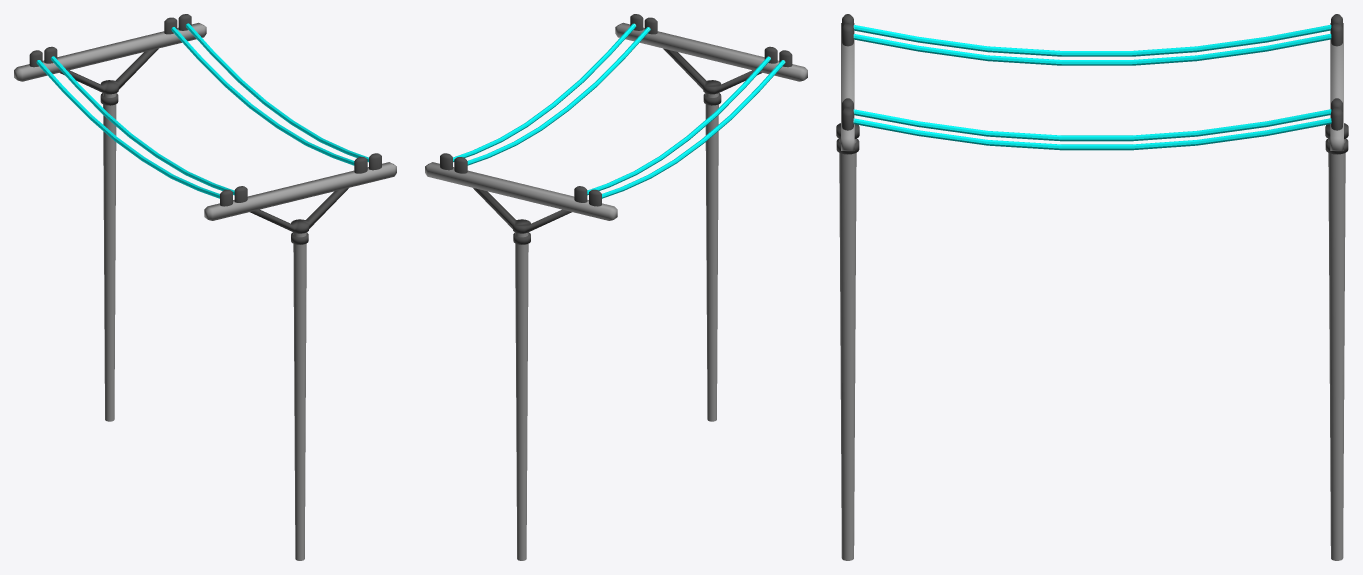
Rendered from direk.engel.mav.fbx.
The picture shows the model from 3 angles, left to right: view 1: azimuth 30°, elevation 25°; view 2: azimuth 150°, elevation 25°; view 3: azimuth 270°, elevation 25°; orthographic projection. The views are drawn at different scales.
Visible parts, largest first — view 1: Cylinder.001; view 2: Cylinder.001; view 3: Cylinder.001.
Boxes of the visible parts, bbox=[...] form: Cylinder.001: bbox=[14, 14, 396, 560]; Cylinder.001: bbox=[425, 14, 807, 560]; Cylinder.001: bbox=[836, 14, 1348, 560].
Size of the model in its own units: 433 by 844 by 791.
6 materials, 1 textured.
